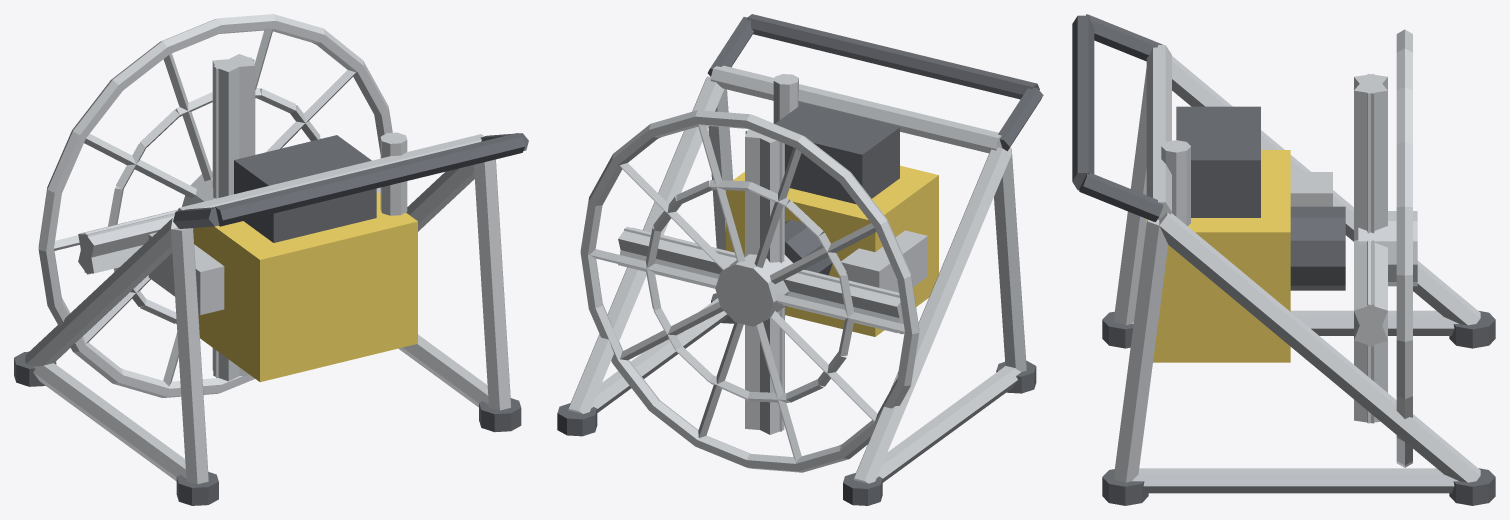
The model's file is stand_fan.glb.
The picture shows the model from 3 angles, left to right: view 1: azimuth 30°, elevation 25°; view 2: azimuth 150°, elevation 25°; view 3: azimuth 270°, elevation 25°; orthographic projection. The views are drawn at different scales.
Parts seen in each view (by area): view 1: balloon-inflation-fan-steel, balloon-inflation-fan-canvasD, balloon-inflation-fan-charcoal, blade; view 2: balloon-inflation-fan-steel, balloon-inflation-fan-charcoal, blade, balloon-inflation-fan-canvasD; view 3: balloon-inflation-fan-steel, balloon-inflation-fan-charcoal, balloon-inflation-fan-canvasD, blade.
Part boxes in pixels (x1=…): balloon-inflation-fan-steel: x1=25, y1=14, x2=510, y2=484; balloon-inflation-fan-canvasD: x1=193, y1=191, x2=417, y2=382; balloon-inflation-fan-charcoal: x1=14, y1=133, x2=528, y2=505; blade: x1=78, y1=54, x2=380, y2=381; balloon-inflation-fan-steel: x1=568, y1=65, x2=1026, y2=483; balloon-inflation-fan-charcoal: x1=557, y1=14, x2=1043, y2=505; blade: x1=618, y1=129, x2=903, y2=434; balloon-inflation-fan-canvasD: x1=726, y1=165, x2=938, y2=336; balloon-inflation-fan-steel: x1=1114, y1=29, x2=1480, y2=493; balloon-inflation-fan-charcoal: x1=1072, y1=14, x2=1495, y2=505; balloon-inflation-fan-canvasD: x1=1146, y1=150, x2=1290, y2=362; blade: x1=1354, y1=74, x2=1417, y2=423.
Size of the model in its own units: 1.04 by 1.04 by 1.
